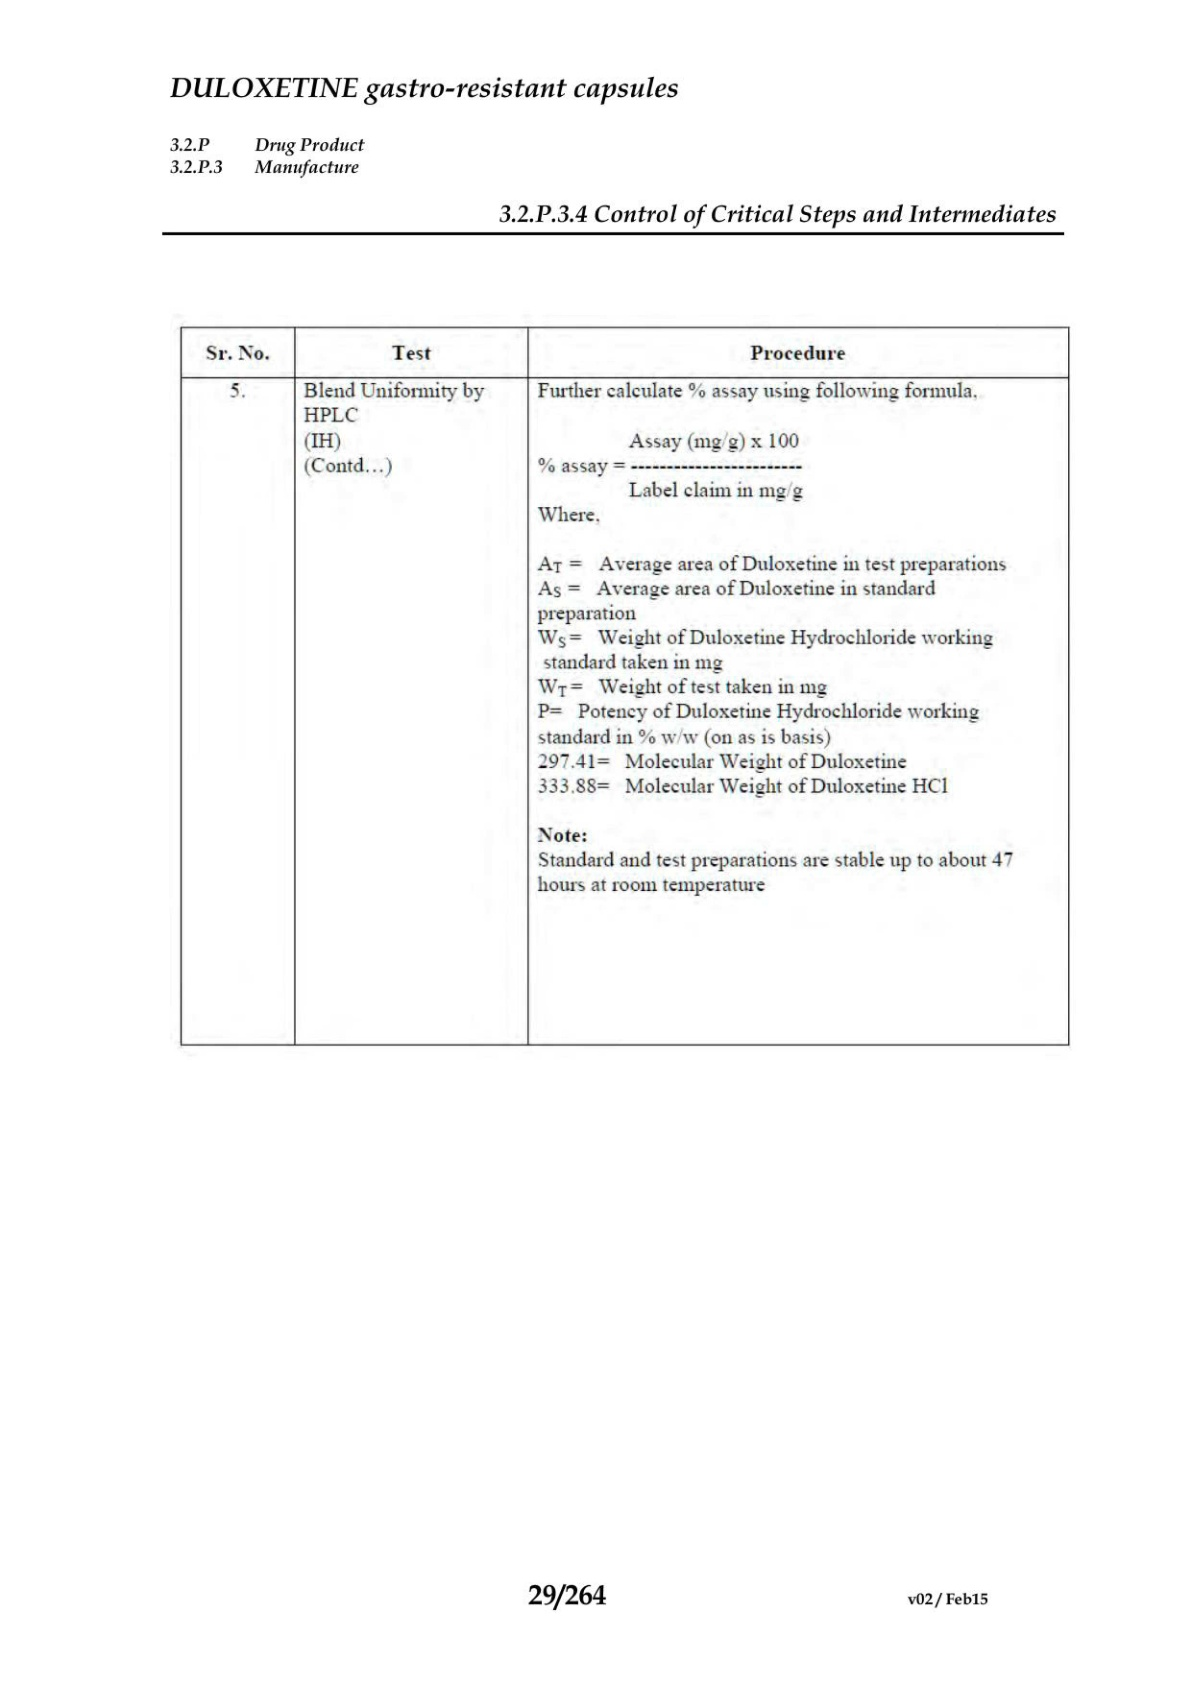full_lined: (179, 325, 1069, 1048)
